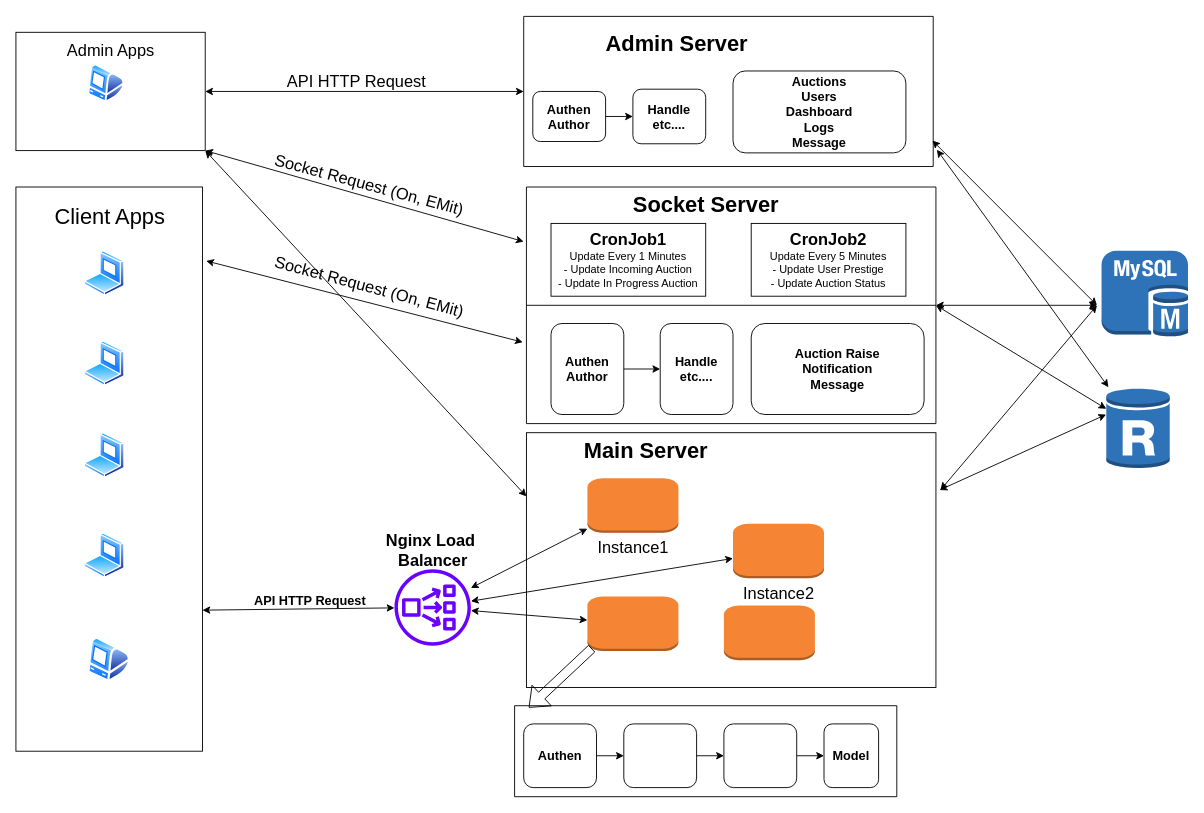
This 1204x813 diagram has some shape labels left out. The shapes that lost their labels are listed below. From the top down, each one's centre as x and y in pixels, then its label:
At pixel 632 623: "InstanceN...".
At pixel 769 632: "Instance3".
At pixel 660 755: "Author".
At pixel 760 755: "Controller".
